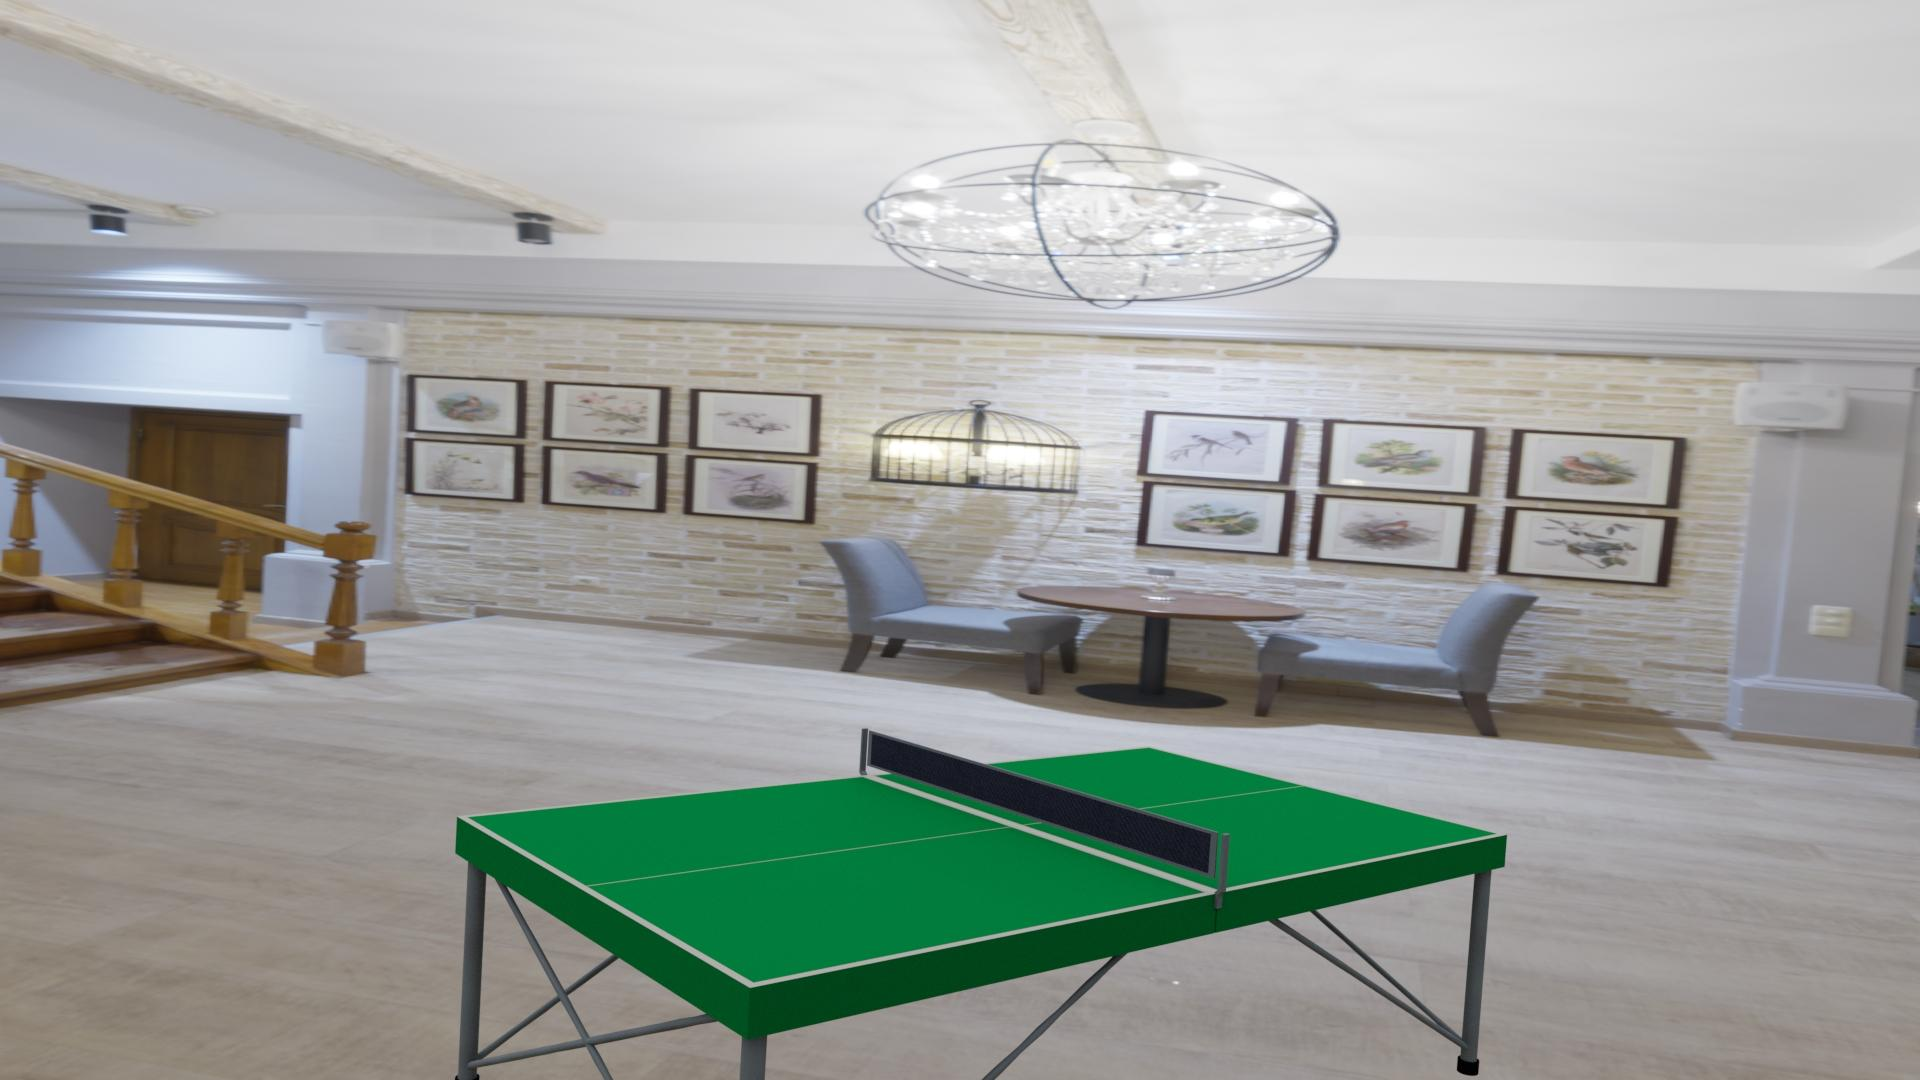table: (467, 748, 1498, 982)
